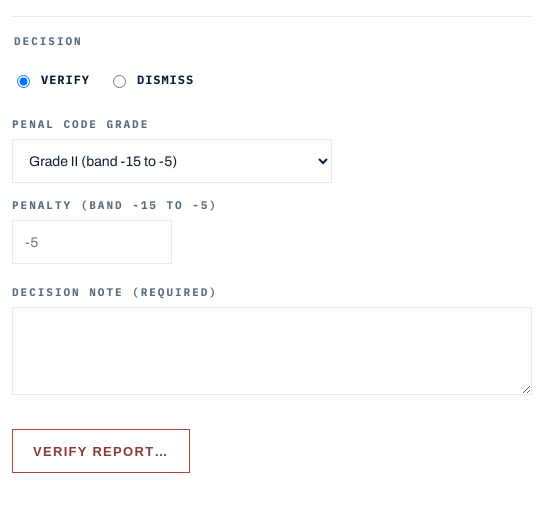
Test: DecideReportForm — verify band validation › requires a note to verify
This screenshot has width=549, height=510.
Step 1. Type "-10" into the field with test id "t1-penalty-input" → coordinates (92, 242), box [12,220,172,264]
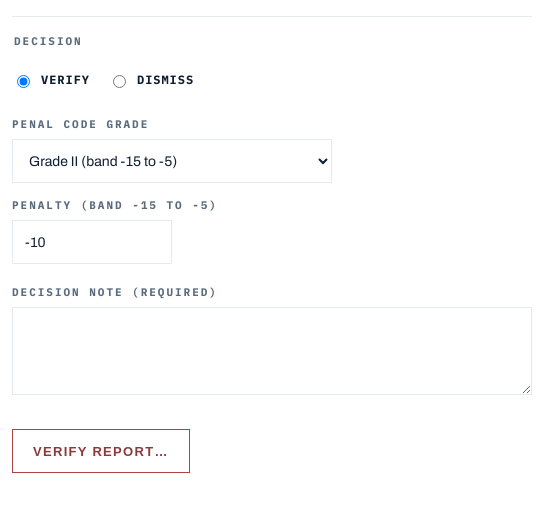
Step 2. Click the button with test id "t1-submit" → coordinates (101, 451), box [12,429,190,473]
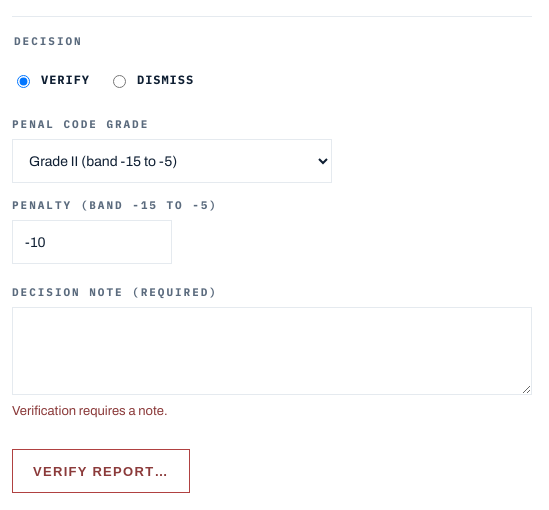
expect the text "Verification requires a note." is shown: met, box [12,404,168,418]
